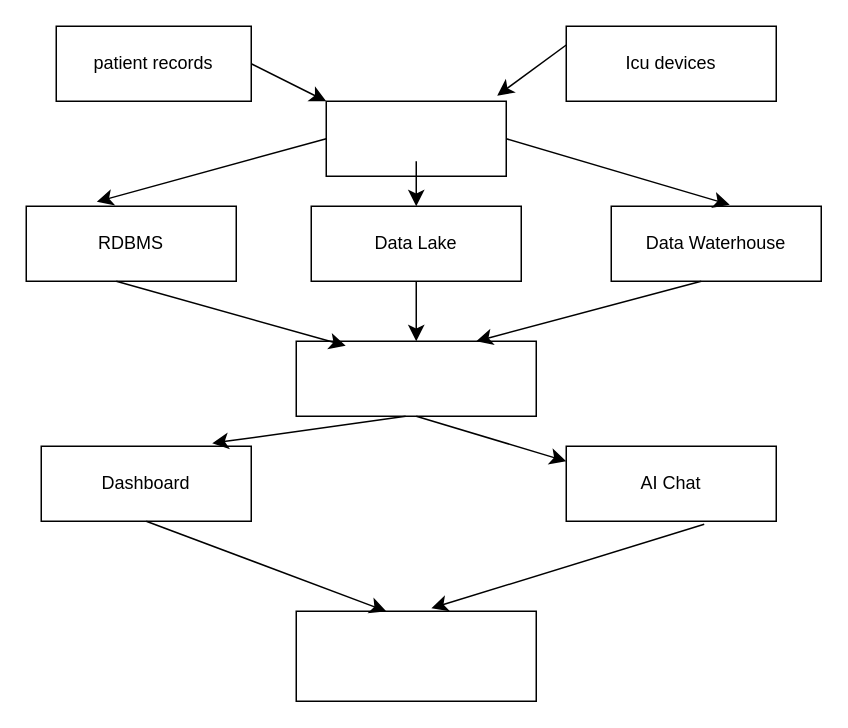
Image size: 848x728. Some labels were removed from this diagram. The shapes that lost their labels are listed below. From the top down, each one's centre as x and y in pixels, then its label:
point (415, 138): Data Ingestion
point (415, 378): ML Model/Processing
point (415, 655): Doctors/Admin
